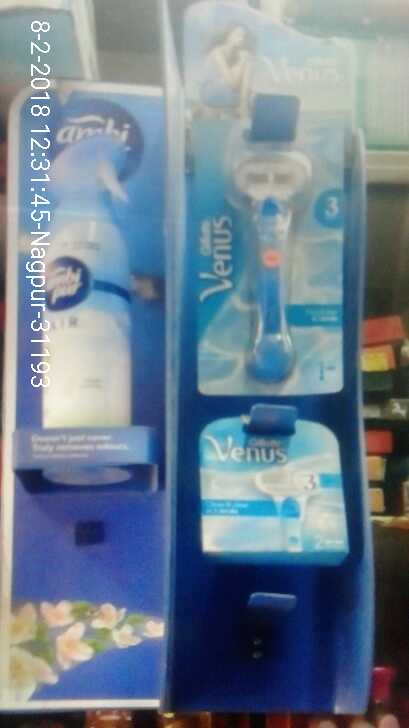beauty: (183, 99, 347, 395), (199, 418, 351, 563)
home: (34, 131, 142, 487)
